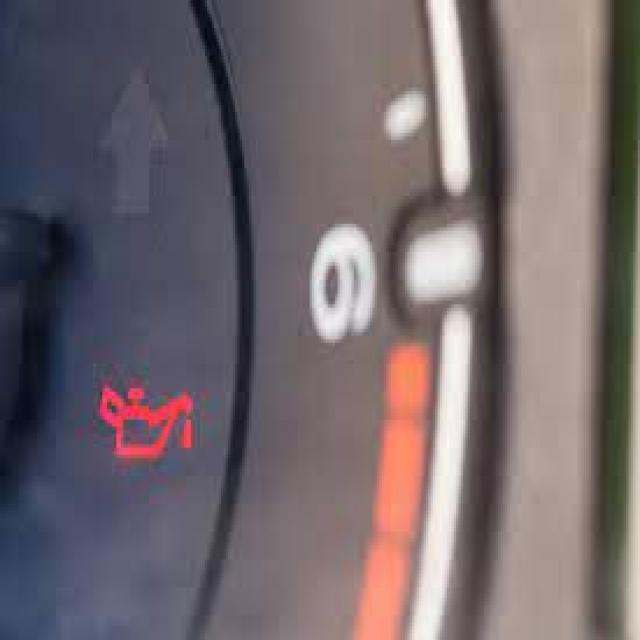OilPressureLow: (88, 357, 207, 480)
